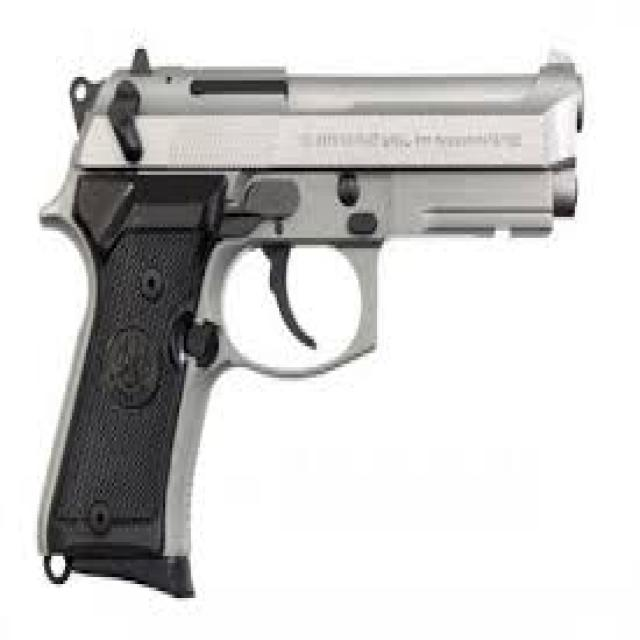pistol: (29, 42, 591, 610)
